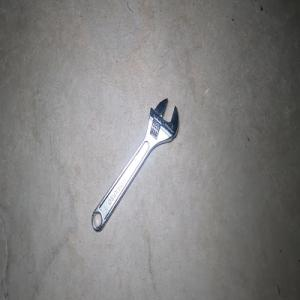Wrench: (91, 98, 178, 231)
